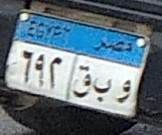2: (49, 51, 67, 91)
6: (14, 48, 33, 89)
9: (32, 49, 50, 91)
ب: (91, 71, 113, 99)
ق: (71, 62, 99, 97)
و: (118, 65, 135, 108)
